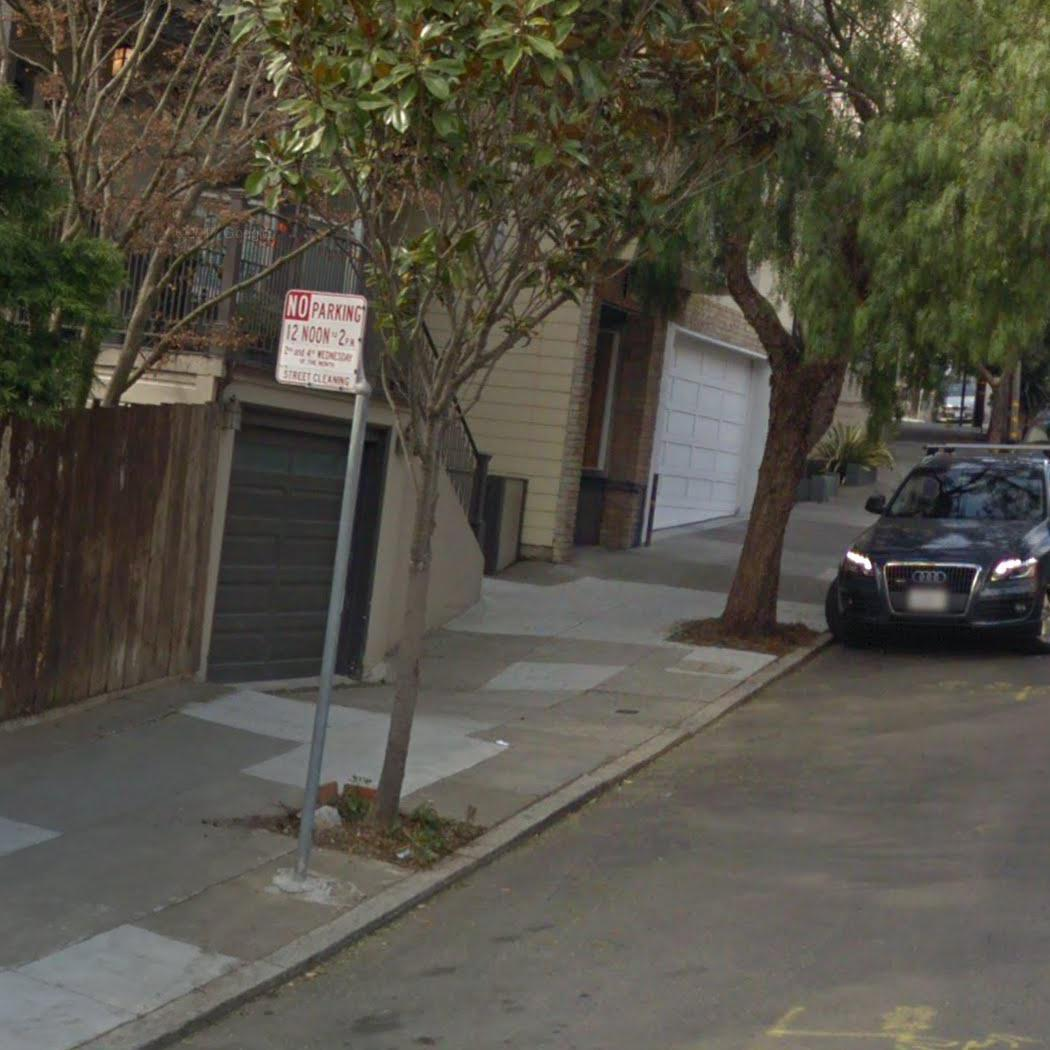No Parking: (272, 285, 378, 395)
